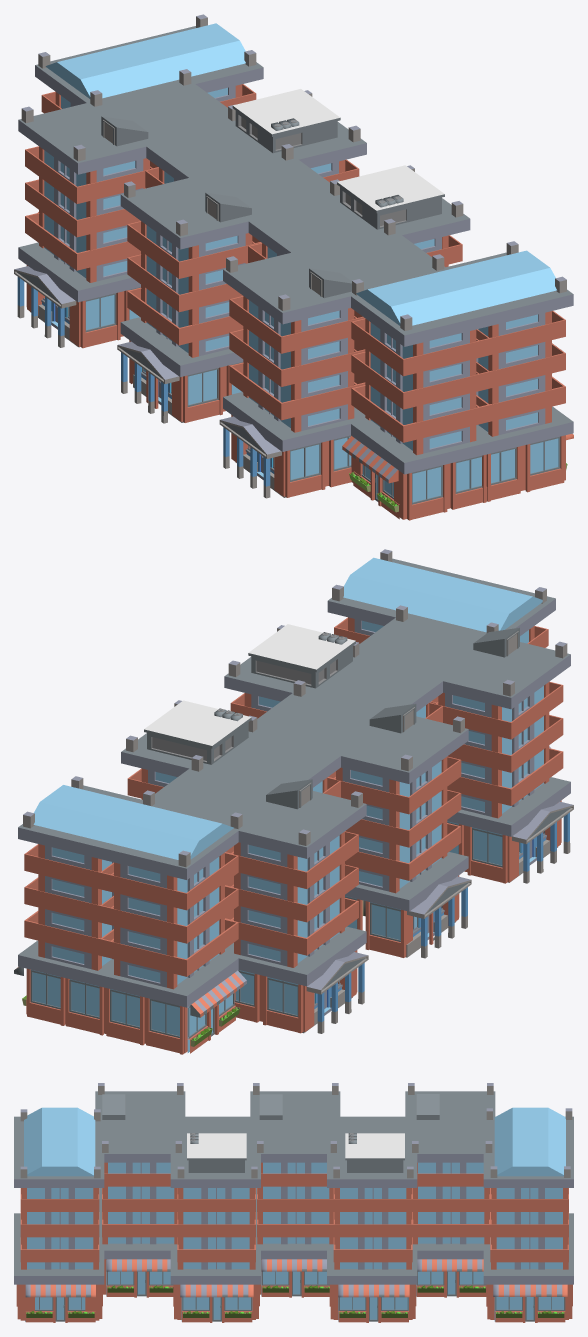
File: putong_dajianzhu06.fbx
3 renders of one model, top to bottom at view 1: azimuth 30°, elevation 25°; view 2: azimuth 150°, elevation 25°; view 3: azimuth 270°, elevation 25°, orthographic. The views are drawn at different scales.
Parts seen in each view (by area): view 1: putong_dajianzhu06046, putong_dajianzhu06038, putong_dajianzhu06022, putong_dajianzhu06014, putong_dajianzhu06047, putong_dajianzhu06055, putong_dajianzhu06039, putong_dajianzhu06015, putong_dajianzhu06023, putong_dajianzhu06045, putong_dajianzhu06037, putong_dajianzhu06049 (+12 smaller); view 2: putong_dajianzhu06006, putong_dajianzhu06014, putong_dajianzhu06022, putong_dajianzhu06038, putong_dajianzhu06007, putong_dajianzhu06002, putong_dajianzhu06015, putong_dajianzhu06005, putong_dajianzhu06039, putong_dajianzhu06023, putong_dajianzhu06013, putong_dajianzhu06049 (+12 smaller); view 3: putong_dajianzhu06049, putong_dajianzhu06030, putong_dajianzhu06002, putong_dajianzhu06055, putong_dajianzhu06042, putong_dajianzhu06010, putong_dajianzhu06026, putong_dajianzhu06050, putong_dajianzhu06029, putong_dajianzhu06003, putong_dajianzhu06054, putong_dajianzhu06043 (+16 smaller).
Boxes of the visible parts, x1,y1,x2,y2 form: putong_dajianzhu06046: [351, 270, 498, 406]; putong_dajianzhu06038: [223, 252, 364, 384]; putong_dajianzhu06022: [120, 178, 274, 309]; putong_dajianzhu06014: [18, 103, 171, 234]; putong_dajianzhu06047: [342, 420, 498, 520]; putong_dajianzhu06055: [446, 241, 573, 388]; putong_dajianzhu06039: [219, 392, 356, 498]; putong_dajianzhu06015: [14, 242, 140, 348]; putong_dajianzhu06023: [117, 317, 243, 423]; putong_dajianzhu06045: [351, 352, 489, 455]; putong_dajianzhu06037: [229, 329, 365, 432]; putong_dajianzhu06049: [213, 89, 366, 182]; putong_dajianzhu06006: [92, 803, 245, 940]; putong_dajianzhu06014: [225, 779, 366, 919]; putong_dajianzhu06022: [327, 703, 468, 844]; putong_dajianzhu06038: [427, 627, 570, 769]; putong_dajianzhu06007: [92, 948, 246, 1054]; putong_dajianzhu06002: [18, 776, 142, 922]; putong_dajianzhu06015: [227, 926, 368, 1033]; putong_dajianzhu06005: [100, 886, 238, 989]; putong_dajianzhu06039: [447, 777, 573, 883]; putong_dajianzhu06023: [345, 852, 471, 958]; putong_dajianzhu06013: [225, 864, 358, 967]; putong_dajianzhu06049: [121, 700, 251, 799]; putong_dajianzhu06049: [327, 1133, 417, 1224]; putong_dajianzhu06030: [170, 1133, 260, 1224]; putong_dajianzhu06002: [483, 1137, 573, 1224]; putong_dajianzhu06055: [14, 1137, 104, 1224]; putong_dajianzhu06042: [95, 1119, 181, 1198]; putong_dajianzhu06010: [409, 1119, 493, 1198]; putong_dajianzhu06026: [250, 1119, 336, 1198]; putong_dajianzhu06050: [327, 1243, 417, 1322]; putong_dajianzhu06029: [170, 1243, 260, 1322]; putong_dajianzhu06003: [483, 1248, 573, 1322]; putong_dajianzhu06054: [14, 1248, 104, 1322]; putong_dajianzhu06043: [99, 1215, 173, 1297].
Bounding box in the file's own units: 12.47 × 10.03 × 31.32.
